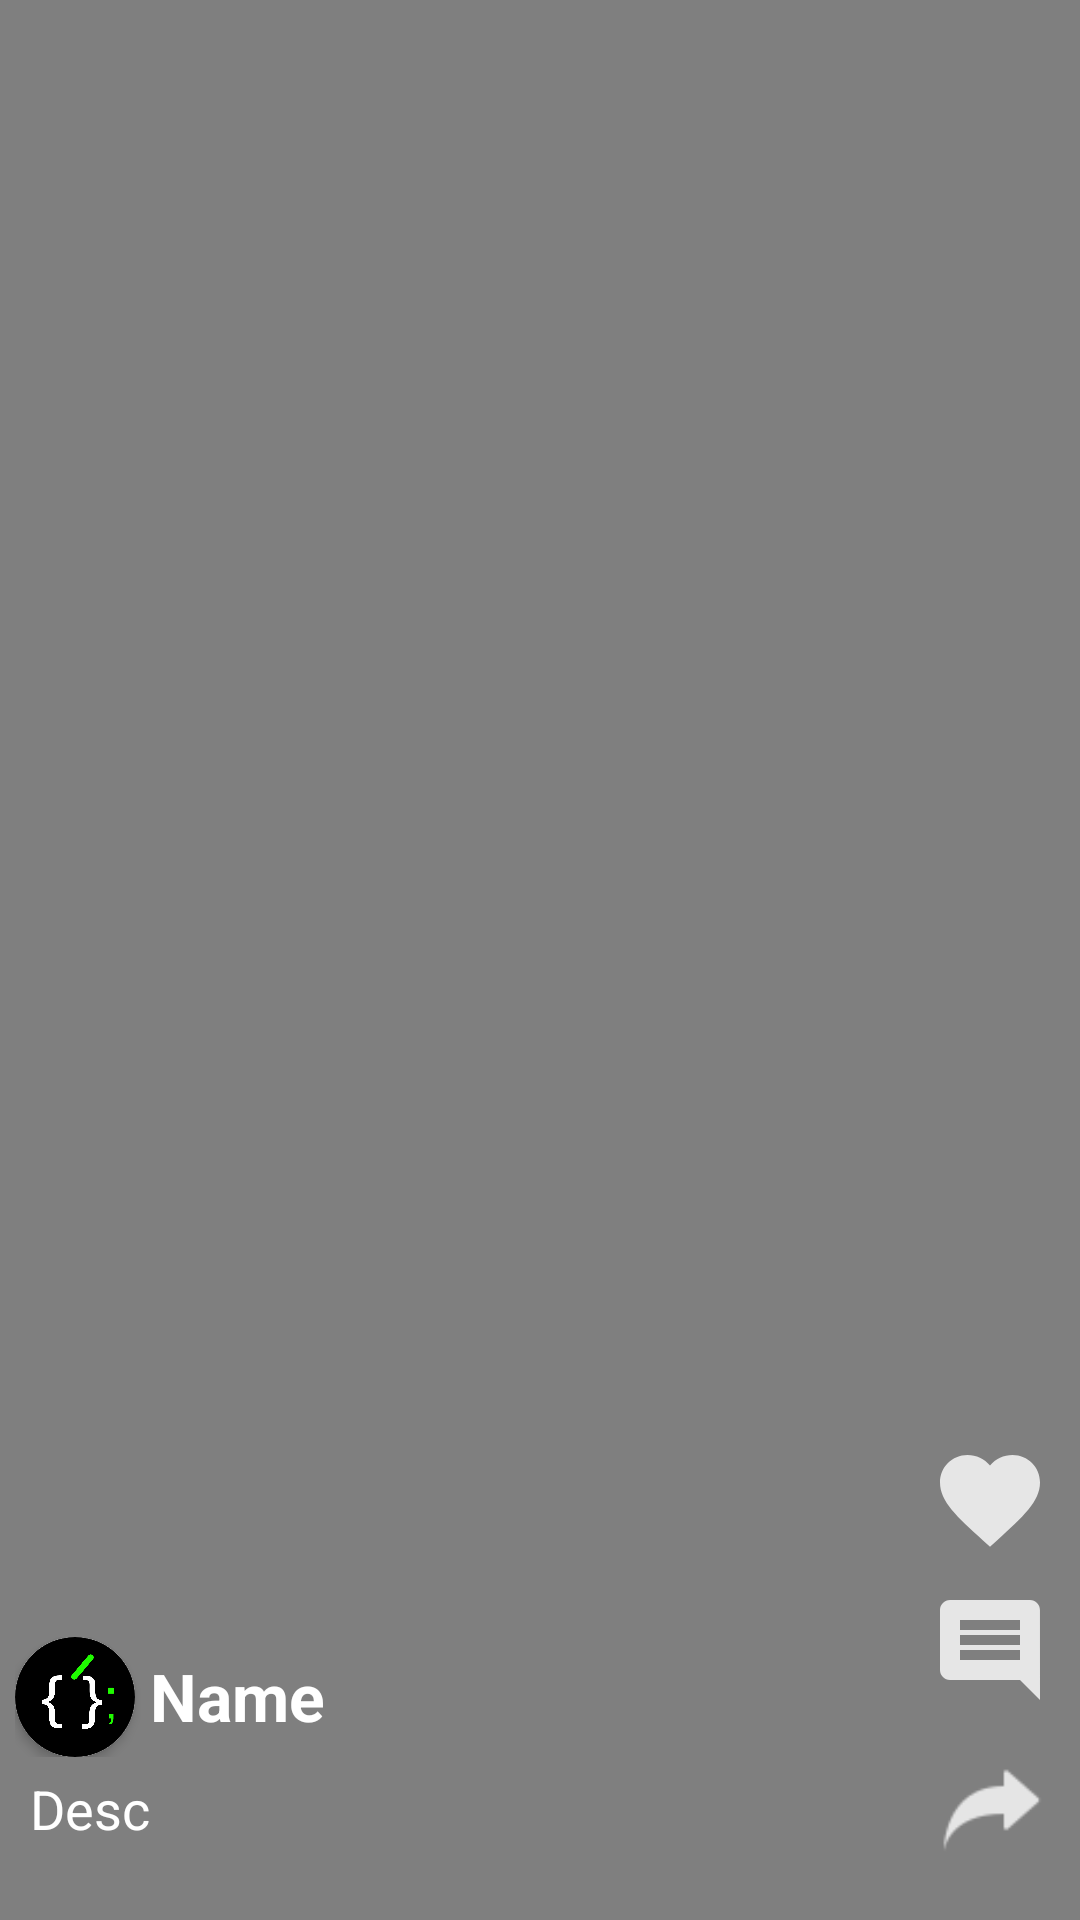

Icon bounding boxes for this 1080 x 1920 phone screenshot, format (x1, y1, x2, y2):
comment: (940, 1600, 1040, 1700)
darkicon: (15, 1637, 135, 1757)
favorite: (940, 1455, 1040, 1547)
share: (943, 1770, 1039, 1847)
